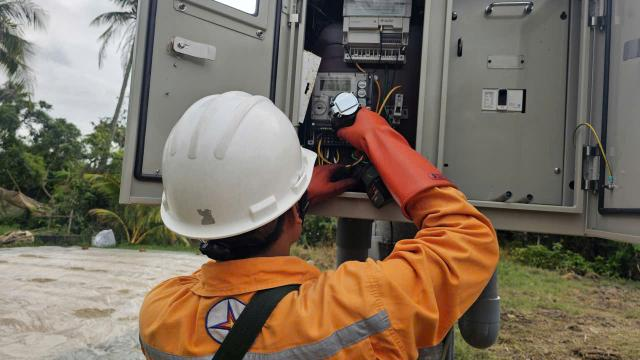gloves: (340, 103, 457, 211), (284, 151, 358, 201)
helmet: (154, 90, 318, 242)
